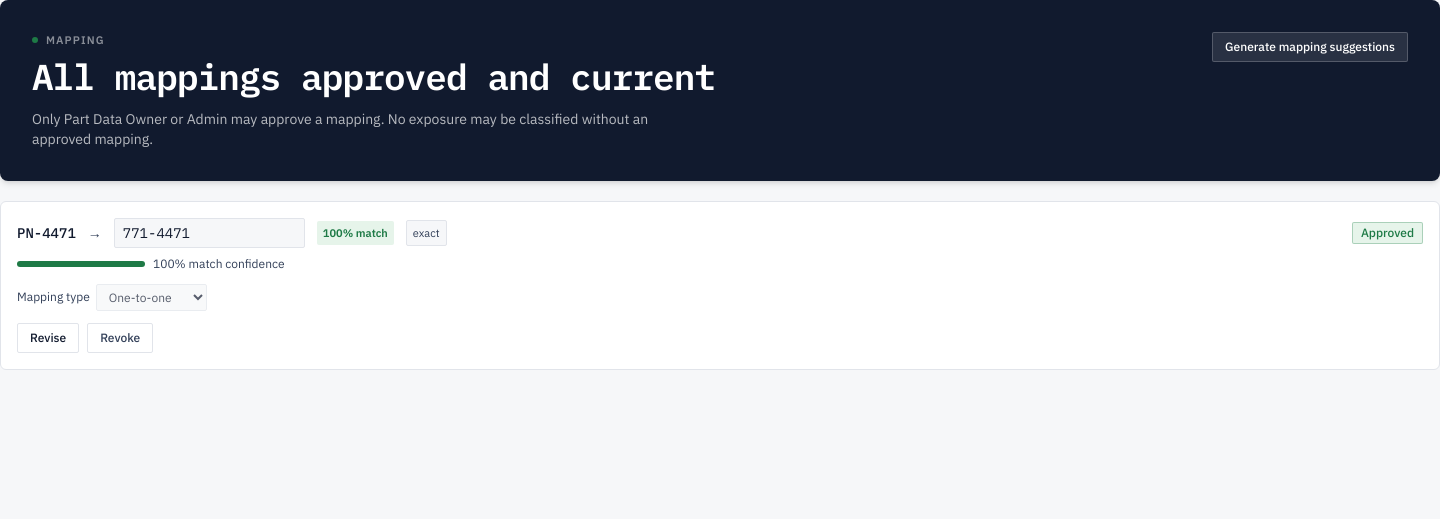
Test: MappingClient › RevisionControls › clicking Revoke opens the revoke-specific form, distinct from Revise
Click the button "Revoke" at (120, 338), box top-left (87, 322), bottom-right (153, 352)
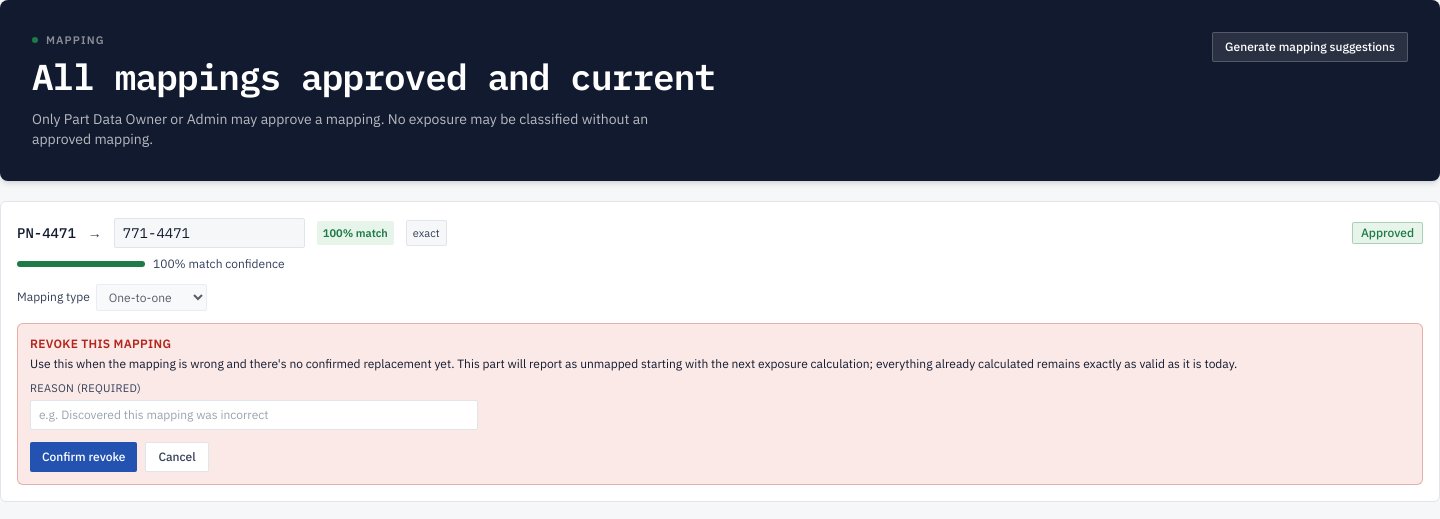
Now the text "Revoke this mapping" is shown, box top-left (30, 336), bottom-right (171, 350)
